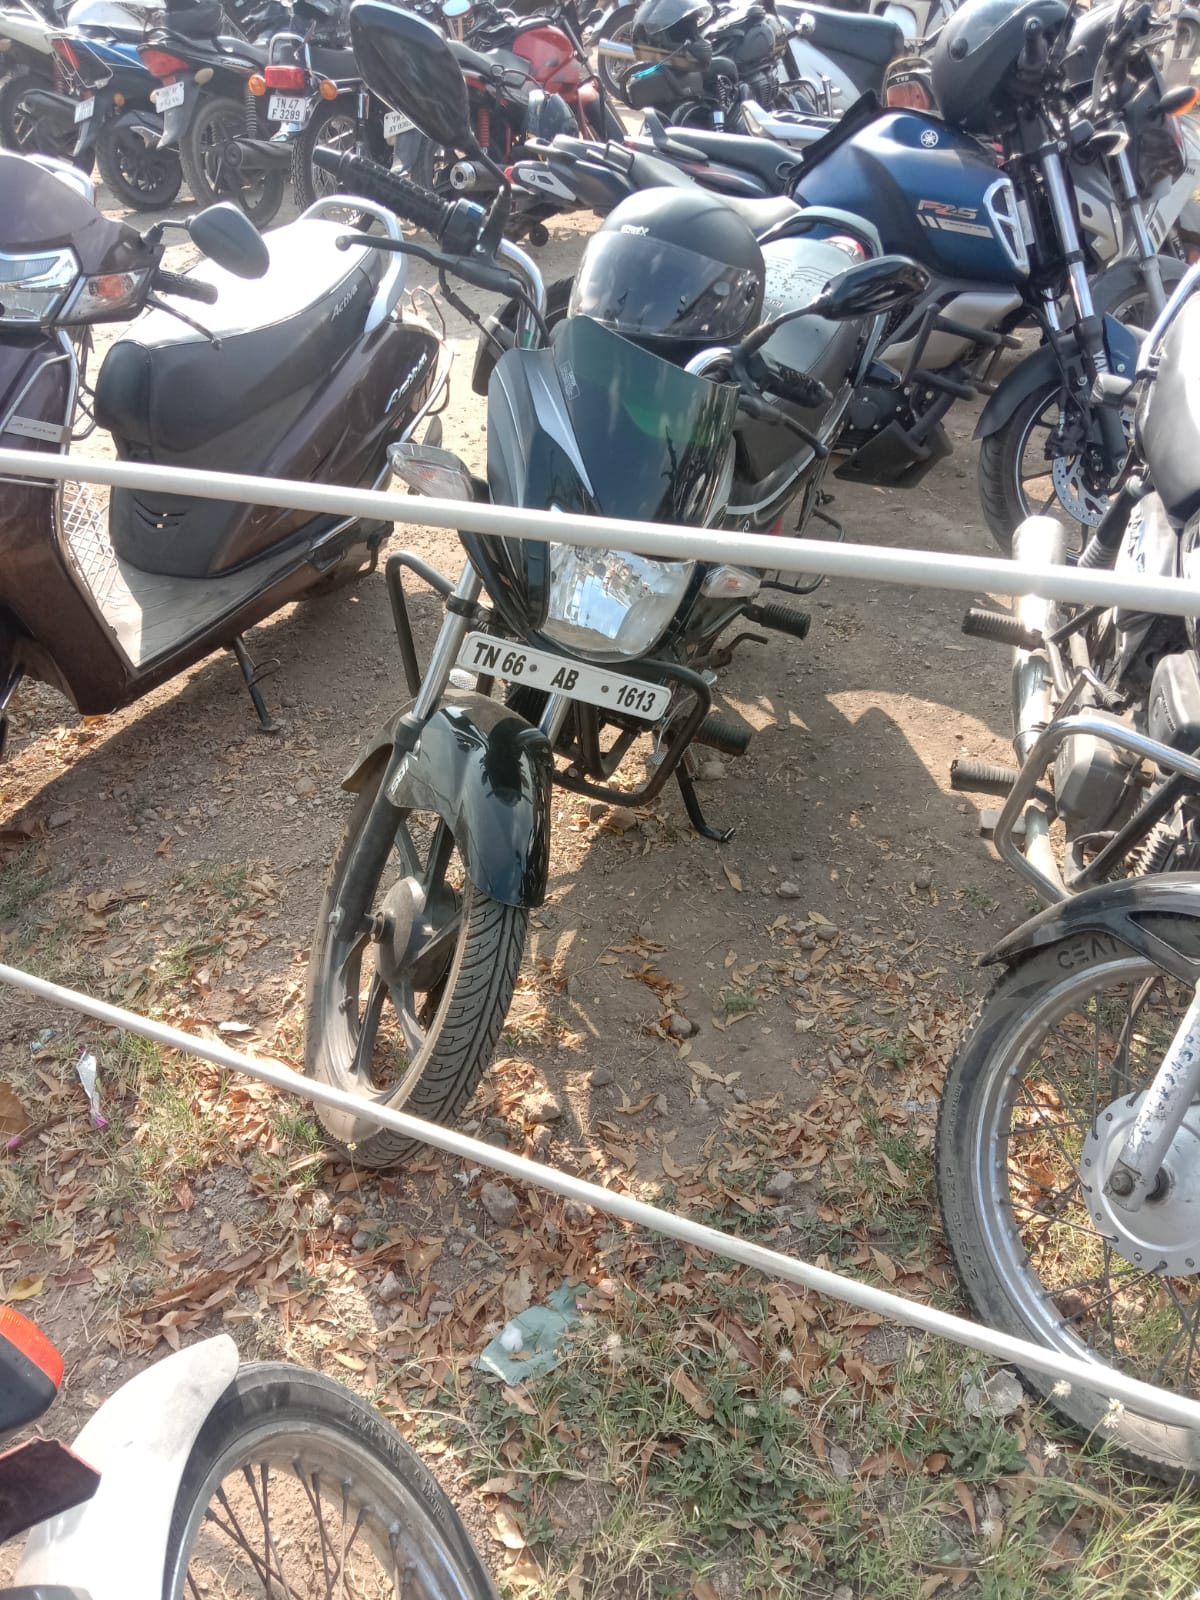numberplate: (440, 612, 718, 755)
